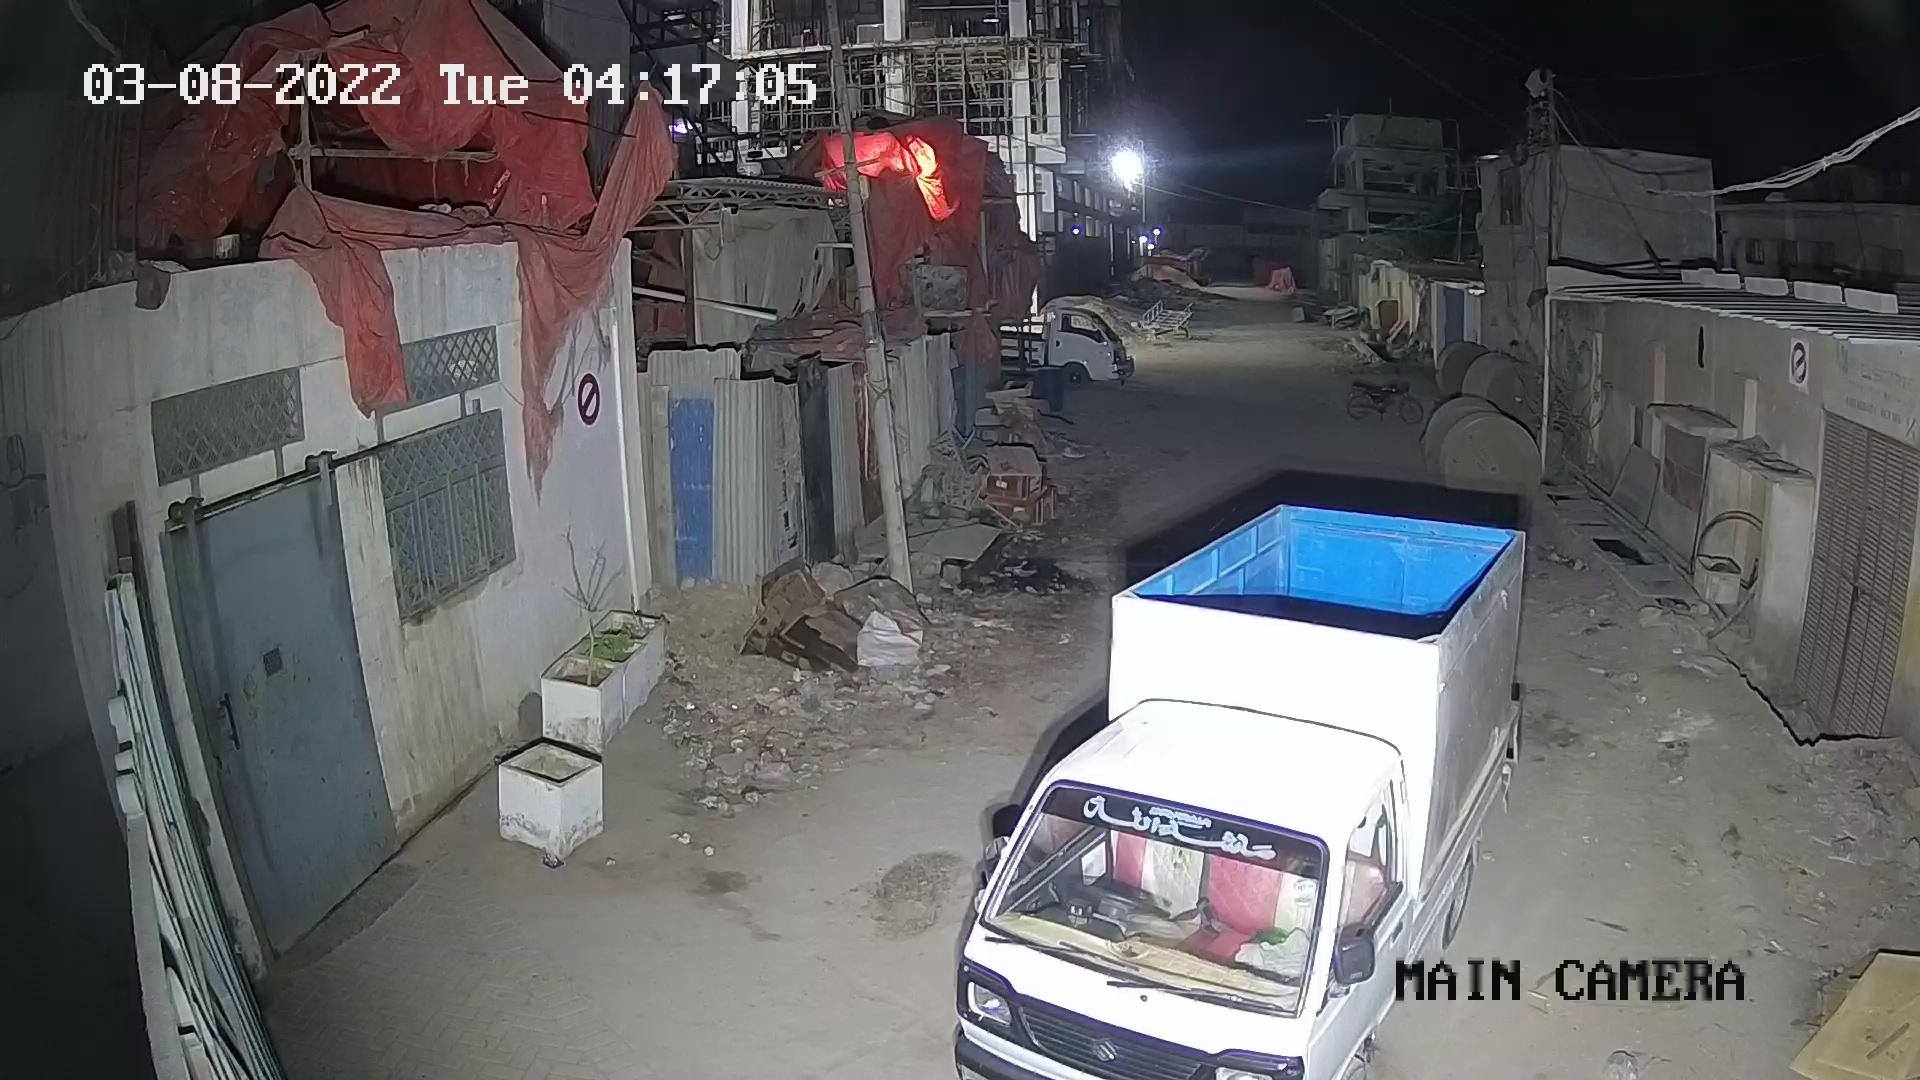Ltv: (956, 505, 1528, 1073), (996, 309, 1135, 384)
bike: (1349, 381, 1424, 423)
